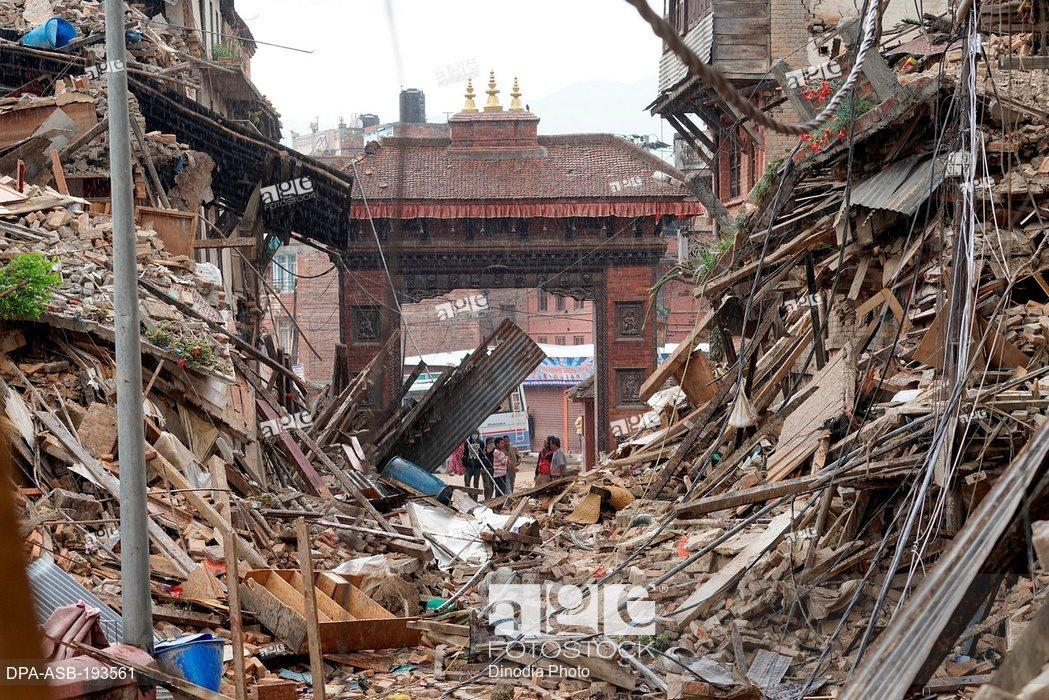victim: (463, 410, 520, 515)
